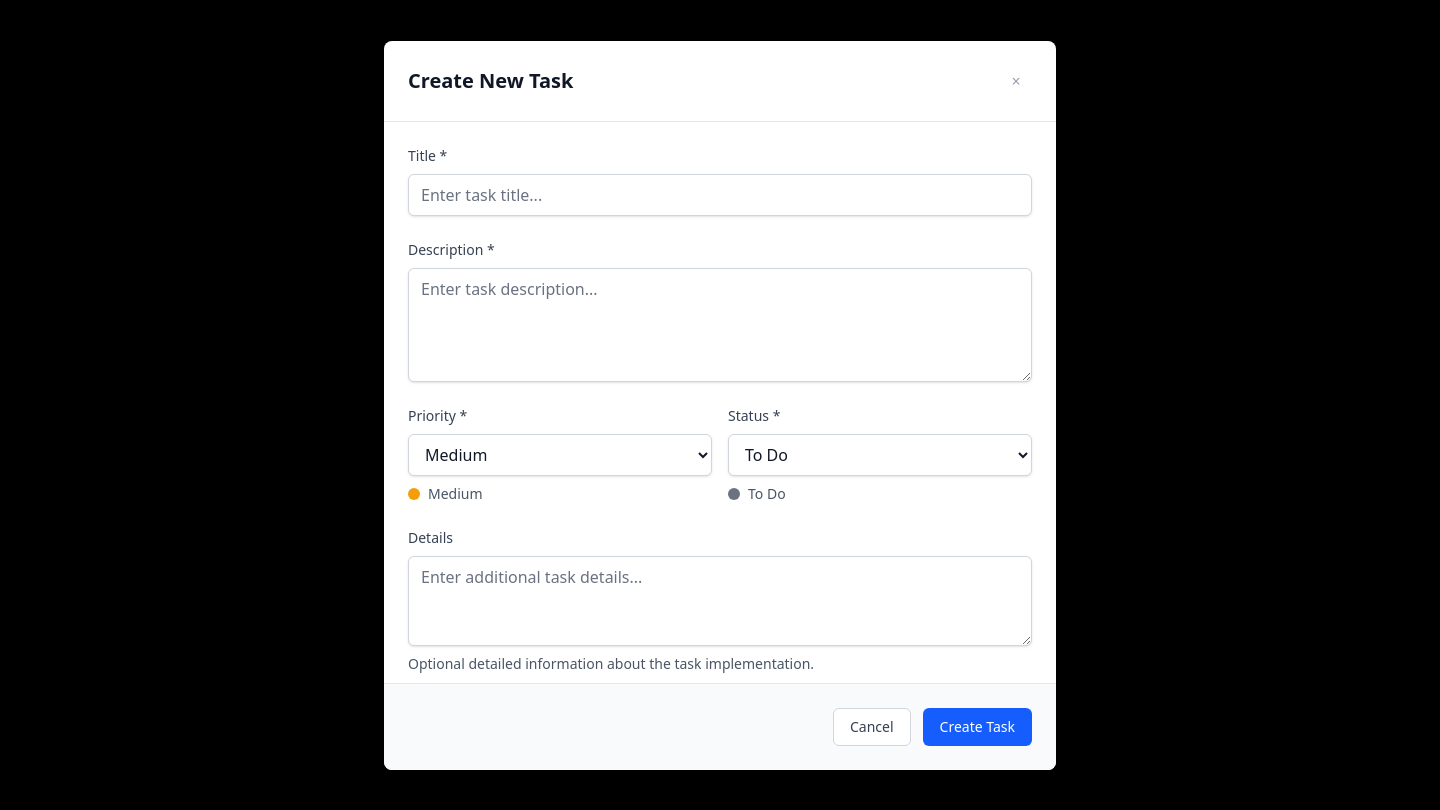
Task Creation Validation › Client-side validation › should validate required description field
Note: Enter valid title but no description
Type "Valid Title" into the field labelled "Title *" at point(720, 194), box 408,174 -> 1032,216
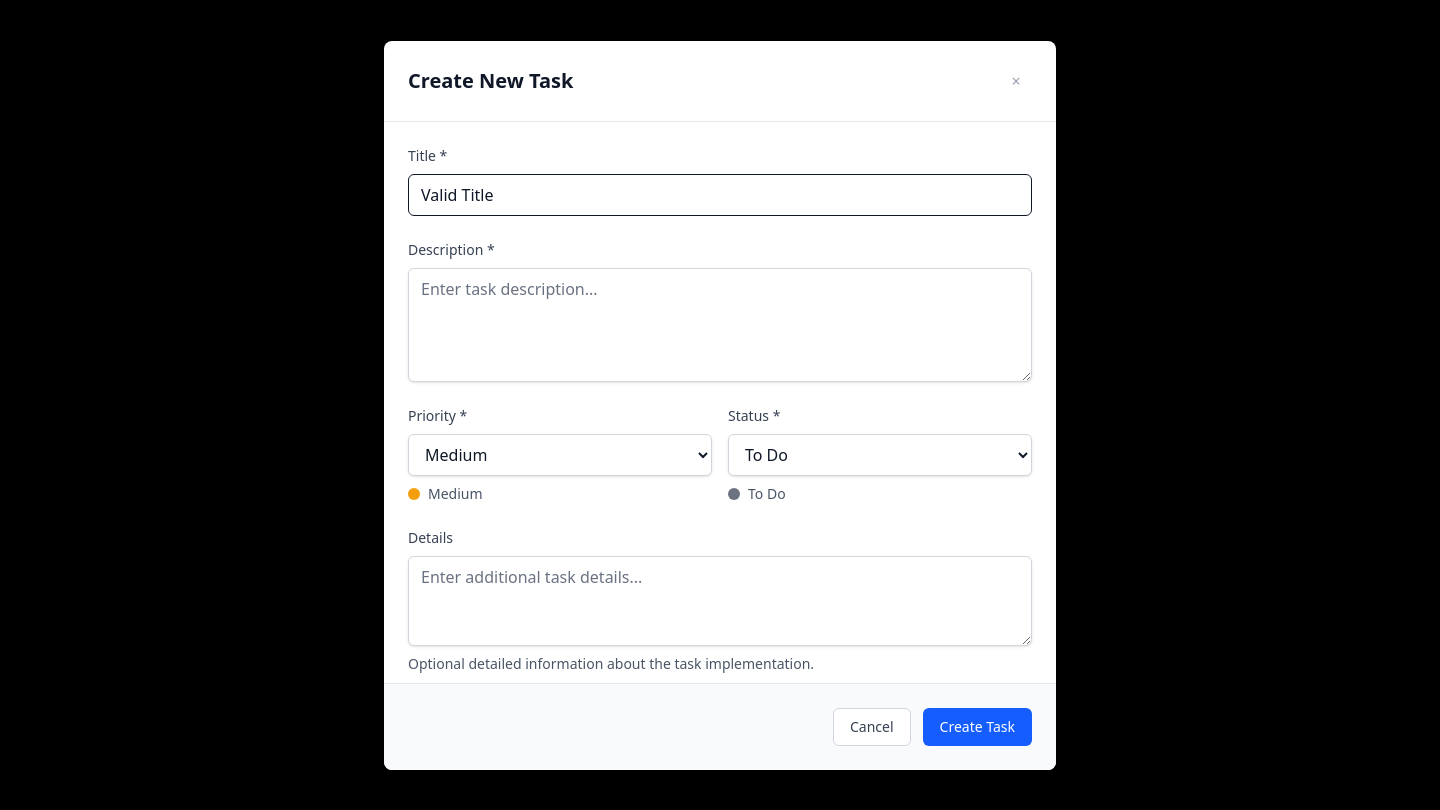
Click the button "Create Task" at point(977, 726), box 923,708 -> 1032,746
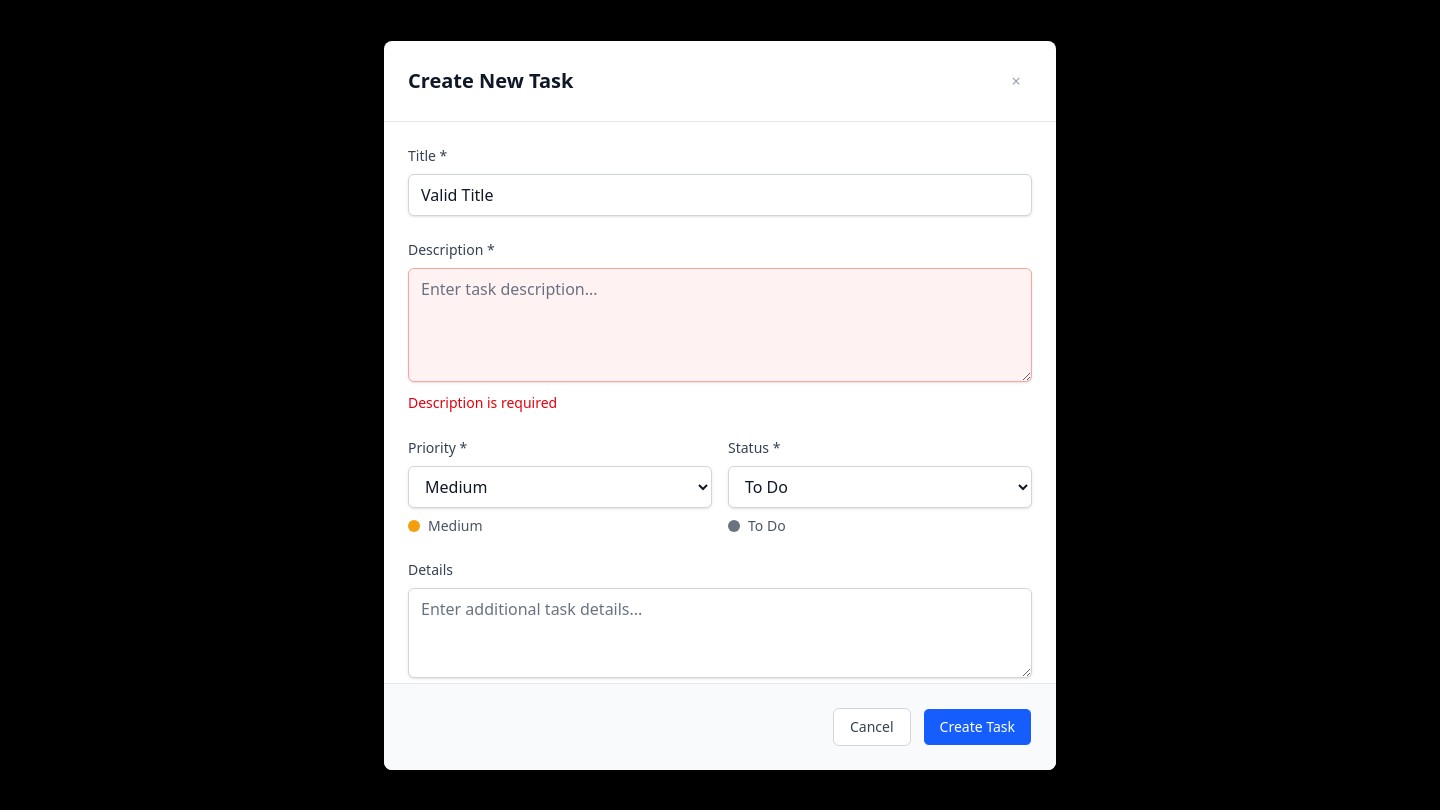
Now the text "Description is required" is shown, box 408,392 -> 557,412
